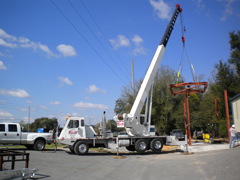crane: (56, 1, 195, 156)
